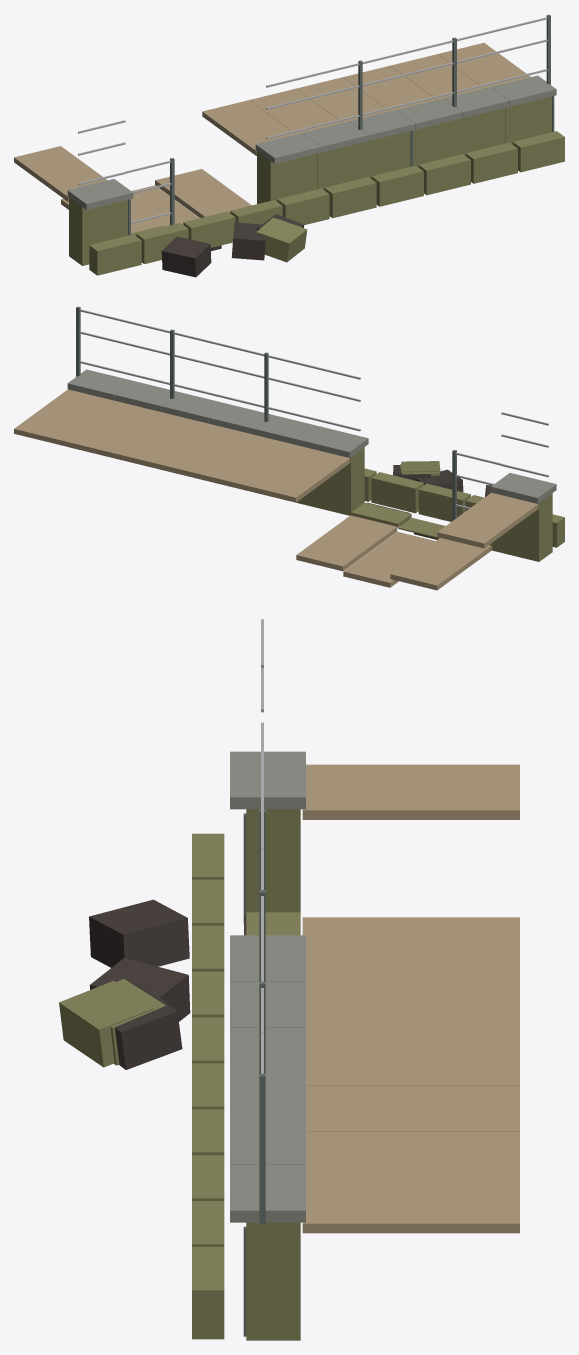
The model's file is SM_MuroRampa_v1_BajoValla_e2_MuyDanado_LOD0.fbx.
3 views of the same model, one above another, from view 1: azimuth 30°, elevation 25°; view 2: azimuth 150°, elevation 25°; view 3: azimuth 270°, elevation 25° (orthographic). The views are drawn at different scales.
Visible parts, largest first — view 1: SM_muro_rampa_v6_LOD0; view 2: SM_muro_rampa_v6_LOD0; view 3: SM_muro_rampa_v6_LOD0.
Part boxes in pixels (bbox=[...]): SM_muro_rampa_v6_LOD0: bbox=[14, 14, 564, 277]; SM_muro_rampa_v6_LOD0: bbox=[14, 306, 564, 590]; SM_muro_rampa_v6_LOD0: bbox=[59, 619, 519, 1340].
Bounding box in the file's own units: 10.03 × 3.03 × 4.24.
